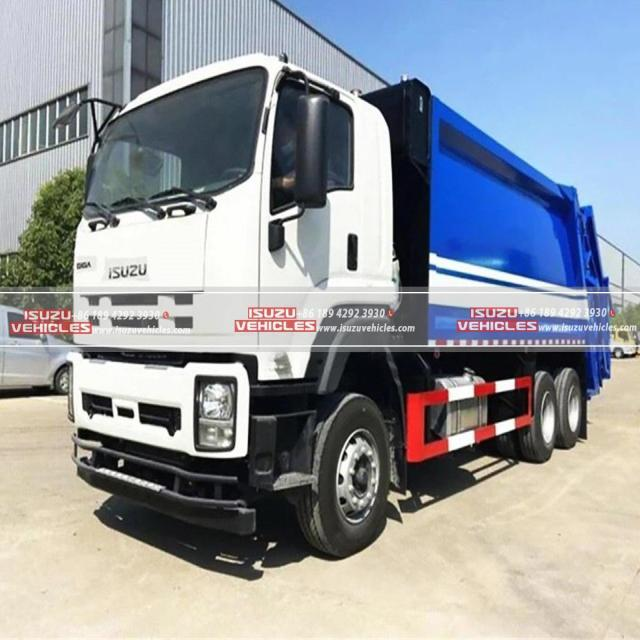traffic light: (53, 51, 614, 560)
